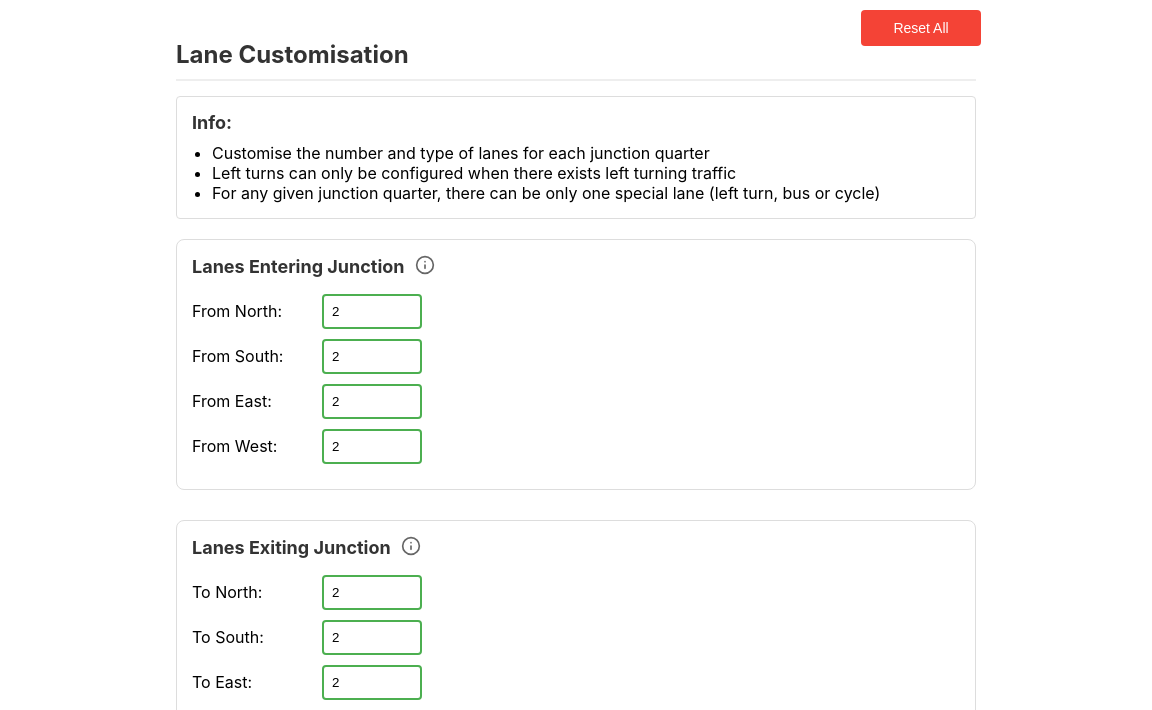
Test: LaneCustomisation Component › Special Lane Configuration › Left turn lane checkbox is disabled when there is no left-turning traffic
The image size is (1152, 710).
// Set lane configuration
Step 1. Replace the text in the number field labelled "From North:" with "3" → (372, 311), box x1=322 y1=294 x2=422 y2=329
(page scrolled)
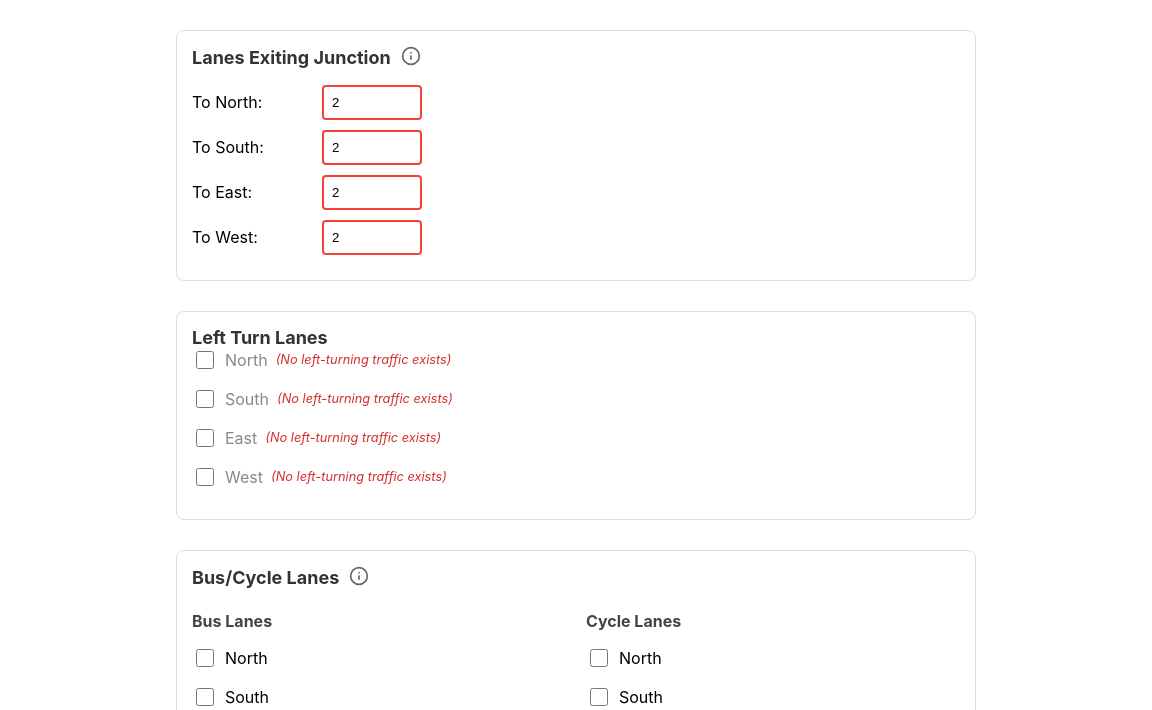
Step 2. Click the checkbox labelled "North (No left-turning traffic exists)" → (205, 360), box x1=196 y1=351 x2=214 y2=369
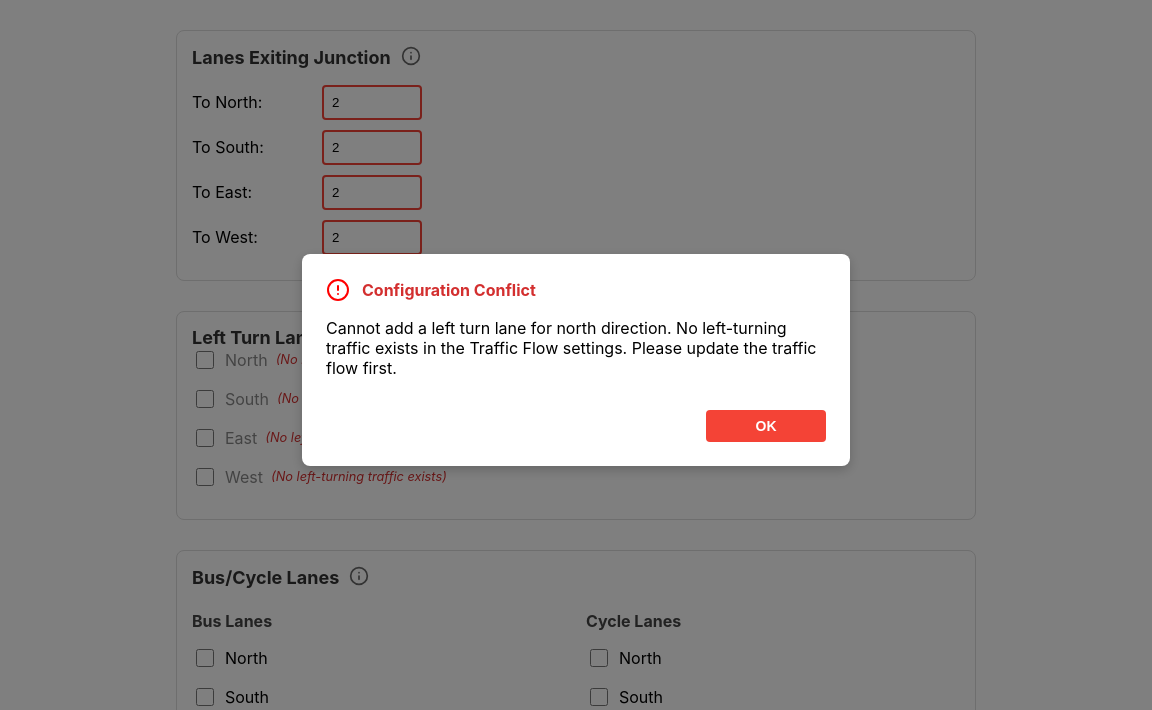
Check: the text "Cannot add a left turn lane for north direction" is shown, box x1=326 y1=318 x2=816 y2=378
